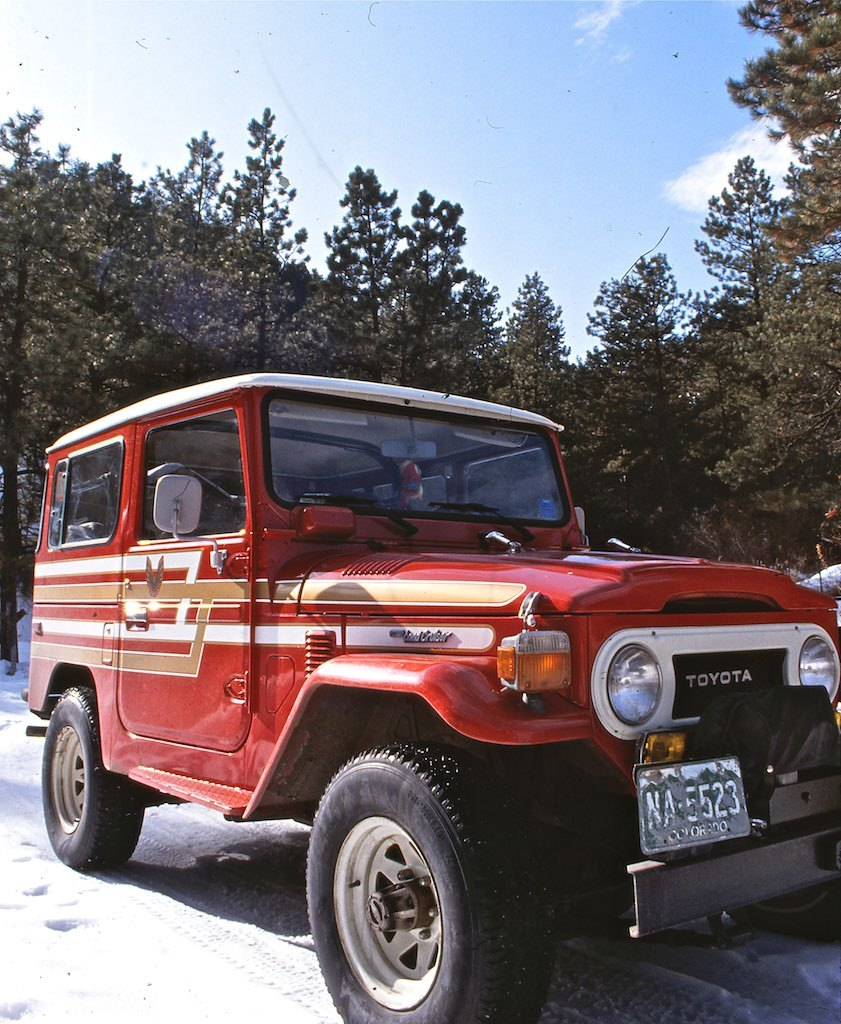Car: (20, 364, 840, 1022)
